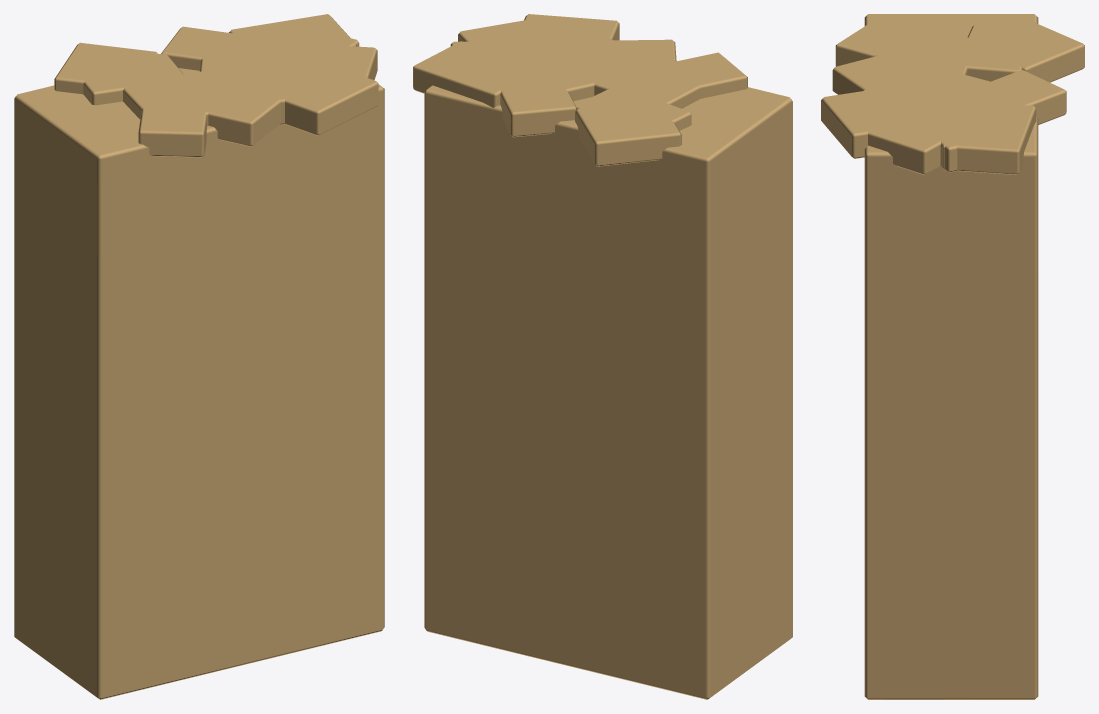
File: BacksackSand3.glb
3 views of the same model, side by side, from view 1: azimuth 30°, elevation 25°; view 2: azimuth 150°, elevation 25°; view 3: azimuth 270°, elevation 25° (orthographic).
Visible parts, largest first — view 1: BacksackSand3.001; view 2: BacksackSand3.001; view 3: BacksackSand3.001.
Part boxes in pixels (x1,y1,x2,y2): BacksackSand3.001: (14, 14, 384, 699); BacksackSand3.001: (413, 14, 792, 699); BacksackSand3.001: (821, 14, 1084, 699).
Bounding box in the file's own units: 0.9358 × 1.62 × 0.691.
